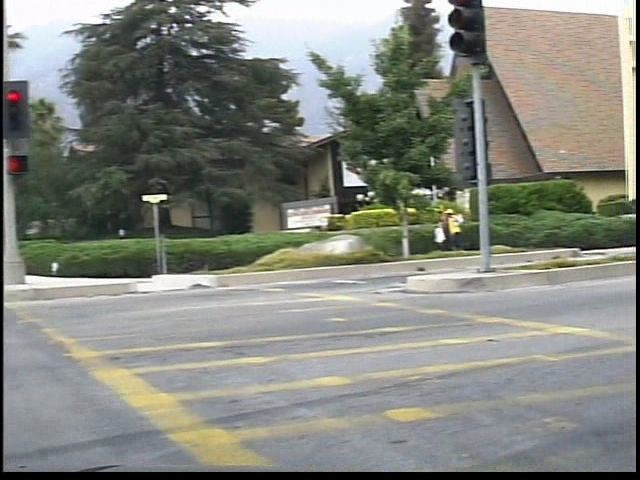person: (453, 199, 478, 254)
